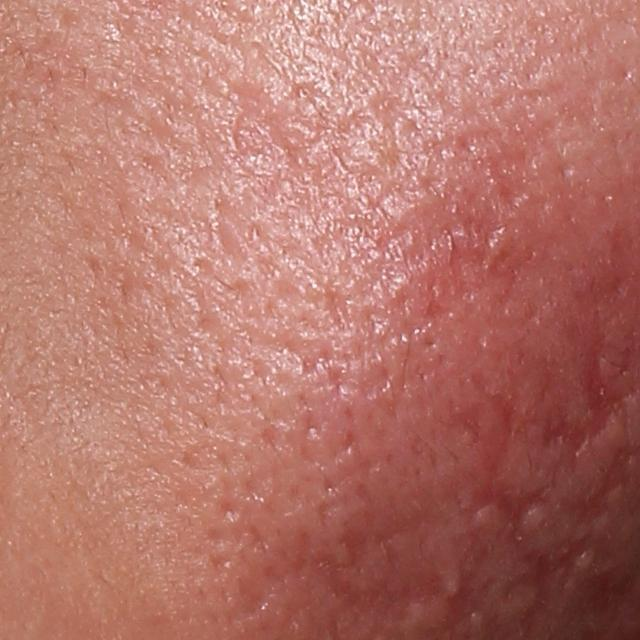atrophic_scar: (308, 521, 445, 621), (466, 392, 552, 547), (219, 75, 321, 196), (541, 338, 636, 452), (502, 534, 594, 640)
hypertrophic_scar: (470, 503, 510, 532), (521, 504, 551, 536), (440, 571, 463, 600)
